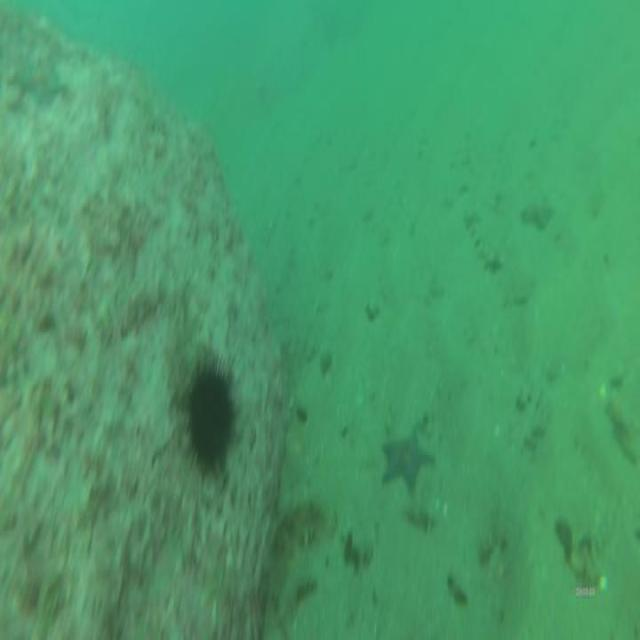echinus: (185, 356, 239, 480)
holothurian: (266, 490, 330, 562), (464, 207, 502, 273)
starfish: (378, 425, 434, 493)
